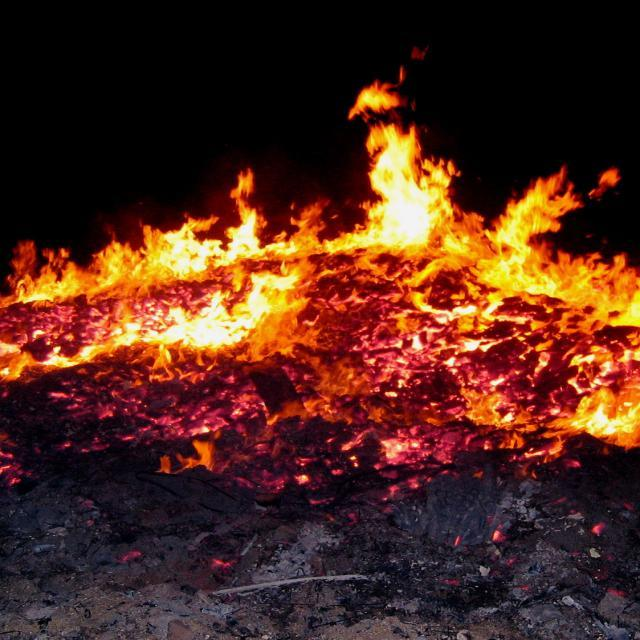Fire: (367, 148, 464, 240), (8, 253, 122, 331), (488, 253, 626, 314), (512, 174, 582, 232), (144, 222, 213, 275)
